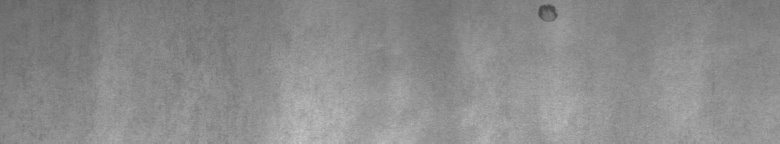fi: (535, 4, 560, 24)
